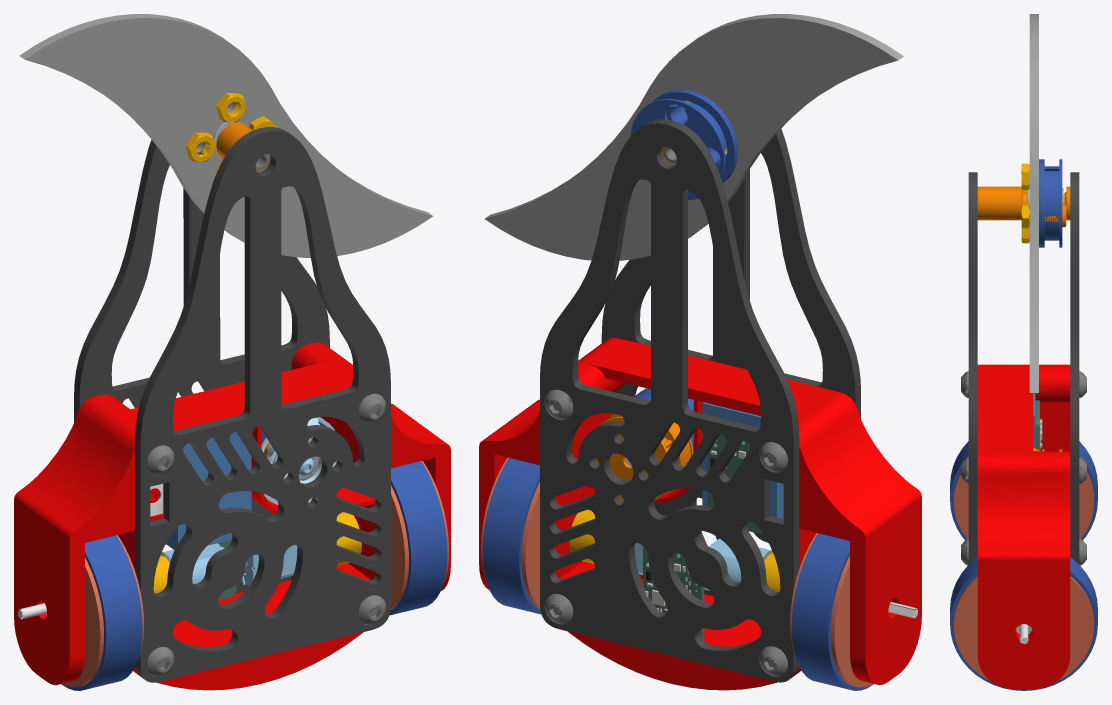
Rendered from horizon-opt.glb.
3 views of the same model, side by side, from view 1: azimuth 30°, elevation 25°; view 2: azimuth 150°, elevation 25°; view 3: azimuth 270°, elevation 25° (orthographic). The views are drawn at different scales.
Visible parts, largest first — view 1: Top Plate, SHCS 4-40x375_HX-SHCS 0.112-40x0.375x0.375-S.IGS, Repeat Drive Brushed (×3), Part 2, Part 1 (×2), 92360A240_Thread-Locking Button Head Hex Drive Screws, Battery, Spacer Bottom; view 2: Top Plate, SHCS 4-40x375_HX-SHCS 0.112-40x0.375x0.375-S.IGS, Repeat Drive Brushed (×2), Part 2, Part 1 (×2), malenki-nano-integrated.step<1>, Battery, Spacer Bottom, 92360A240_Thread-Locking Button Head Hex Drive Screws; view 3: SHCS 4-40x375_HX-SHCS 0.112-40x0.375x0.375-S.IGS, Top Plate, Part 1 (×2), Part 2, Repeat Drive Brushed, Spacer Bottom, 92360A240_Thread-Locking Button Head Hex Drive Screws, malenki-nano-integrated.step<1>.
Part boxes in pixels (x1,y1,x2,y2): Top Plate: (74,127,390,682); SHCS 4-40x375_HX-SHCS 0.112-40x0.375x0.375-S.IGS: (14,342,450,690); Repeat Drive Brushed (×3): (19,14,432,592); Part 2: (61,104,447,690); Part 1 (×2): (62,154,448,687); 92360A240_Thread-Locking Button Head Hex Drive Screws: (153,93,361,593); Battery: (166,432,251,549); Spacer Bottom: (216,122,270,457); Top Plate: (540,119,860,682); SHCS 4-40x375_HX-SHCS 0.112-40x0.375x0.375-S.IGS: (479,338,921,690); Repeat Drive Brushed (×2): (485,14,903,590); Part 2: (482,89,873,690); Part 1 (×2): (481,146,872,687); malenki-nano-integrated.step<1>: (643,434,762,640); Battery: (702,402,783,519); Spacer Bottom: (595,146,693,500); 92360A240_Thread-Locking Button Head Hex Drive Screws: (569,101,780,591); SHCS 4-40x375_HX-SHCS 0.112-40x0.375x0.375-S.IGS: (977,364,1070,689); Top Plate: (968,172,1079,564); Part 1 (×2): (953,194,1094,680); Part 2: (950,159,1097,690); Repeat Drive Brushed: (1029,14,1038,392); Spacer Bottom: (977,186,1070,451); 92360A240_Thread-Locking Button Head Hex Drive Screws: (1021,163,1029,243); malenki-nano-integrated.step<1>: (1035,400,1039,450).
Size of the model in its own units: 140 by 211 by 50.81.
